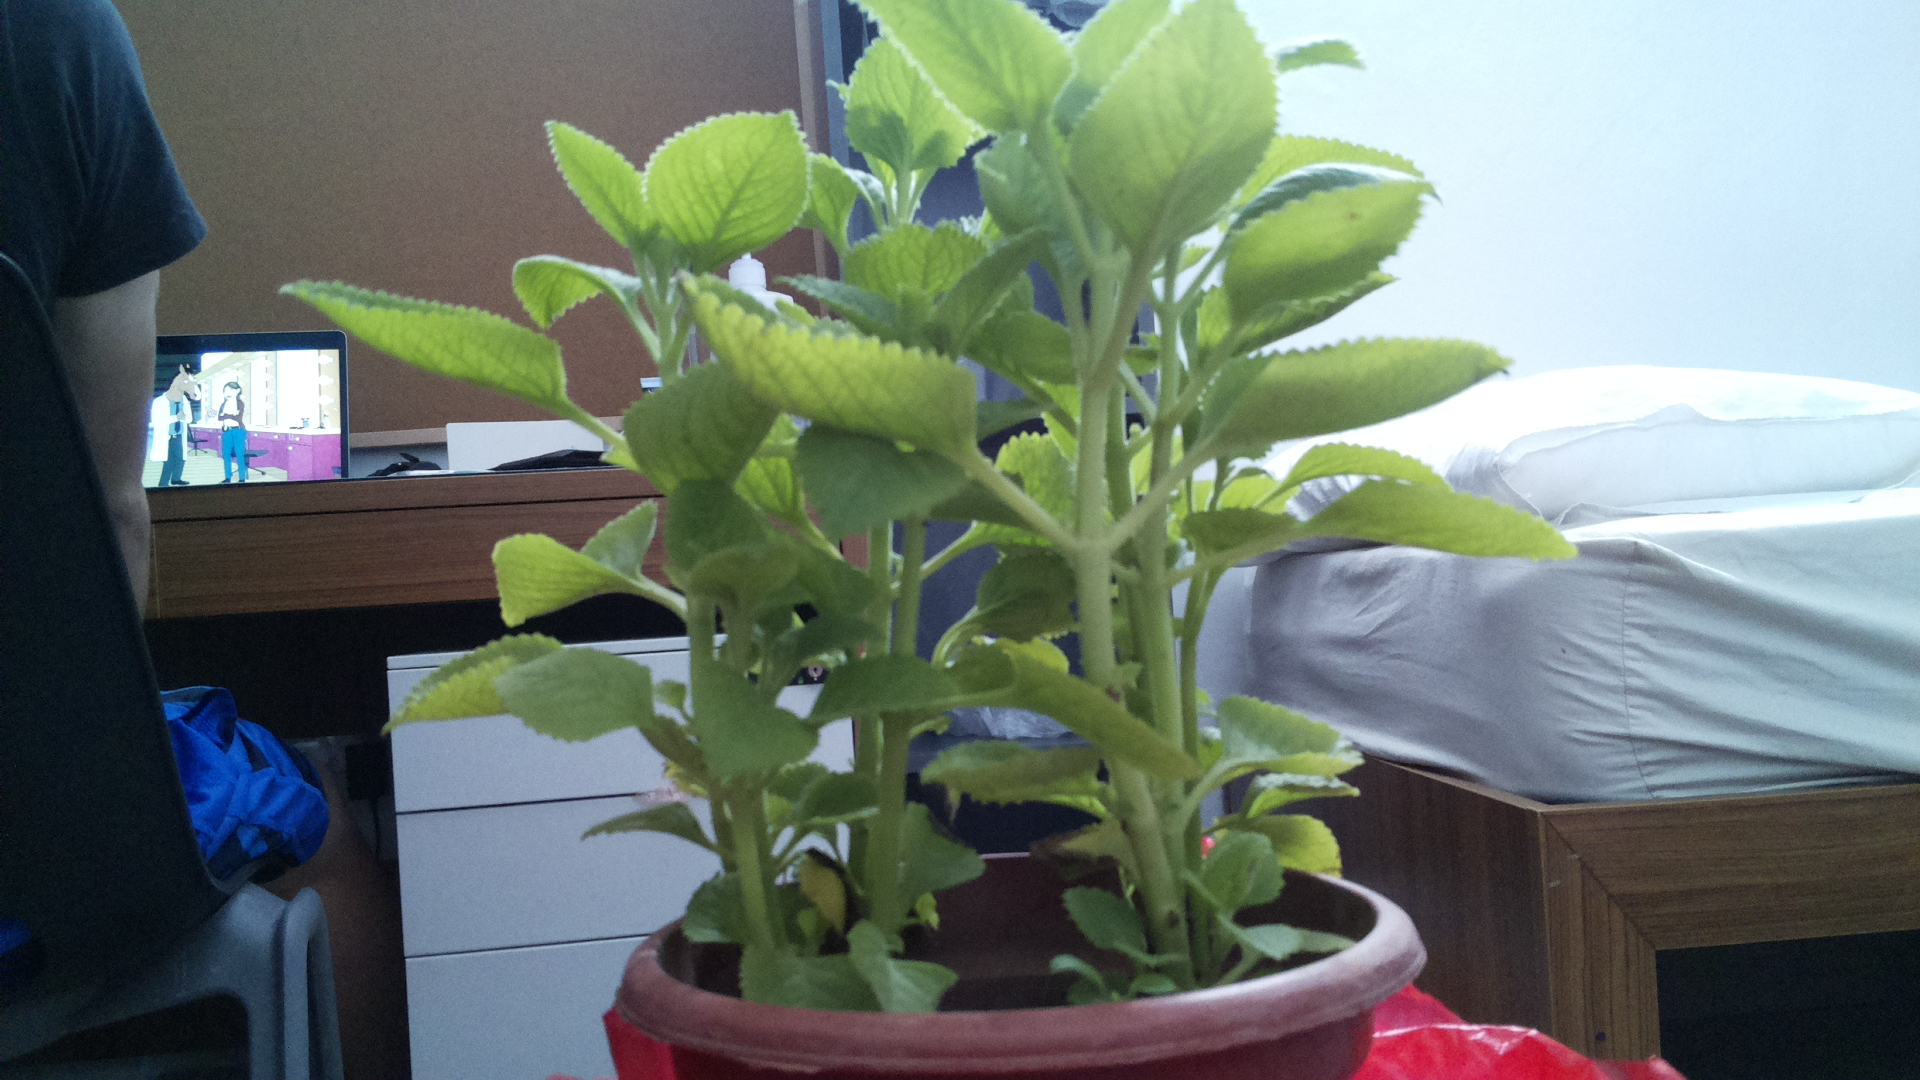leaf: (1065, 1, 1275, 255), (280, 274, 585, 421), (1215, 318, 1528, 459), (694, 291, 976, 444), (1224, 149, 1441, 334), (1244, 469, 1600, 571), (996, 653, 1204, 790), (649, 99, 807, 270), (476, 498, 657, 638), (525, 109, 675, 258), (836, 22, 967, 179), (386, 637, 560, 735), (698, 661, 808, 794)
